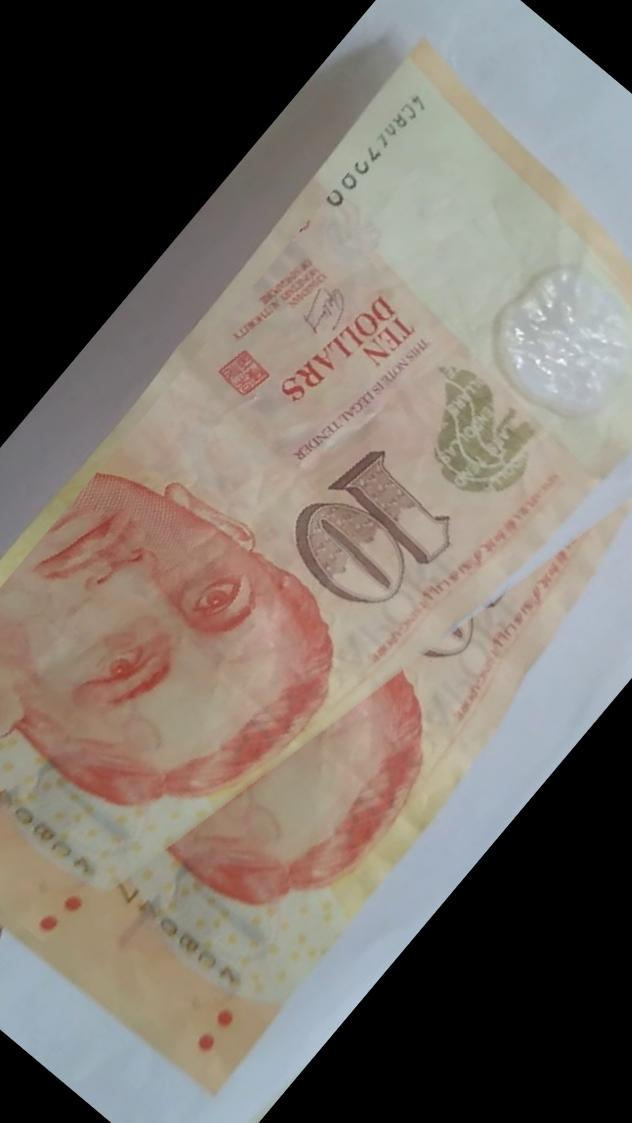10SingaporeDollar: (0, 98, 632, 1071)
